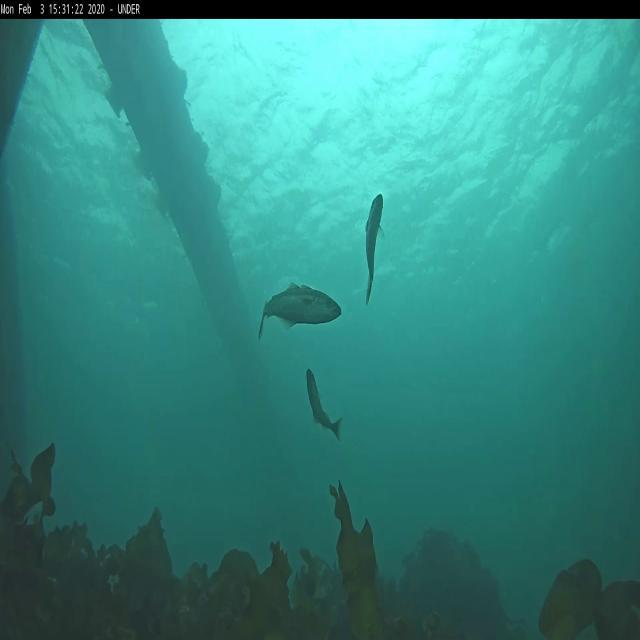fish: (260, 284, 341, 336), (305, 364, 343, 443), (365, 194, 383, 304)
